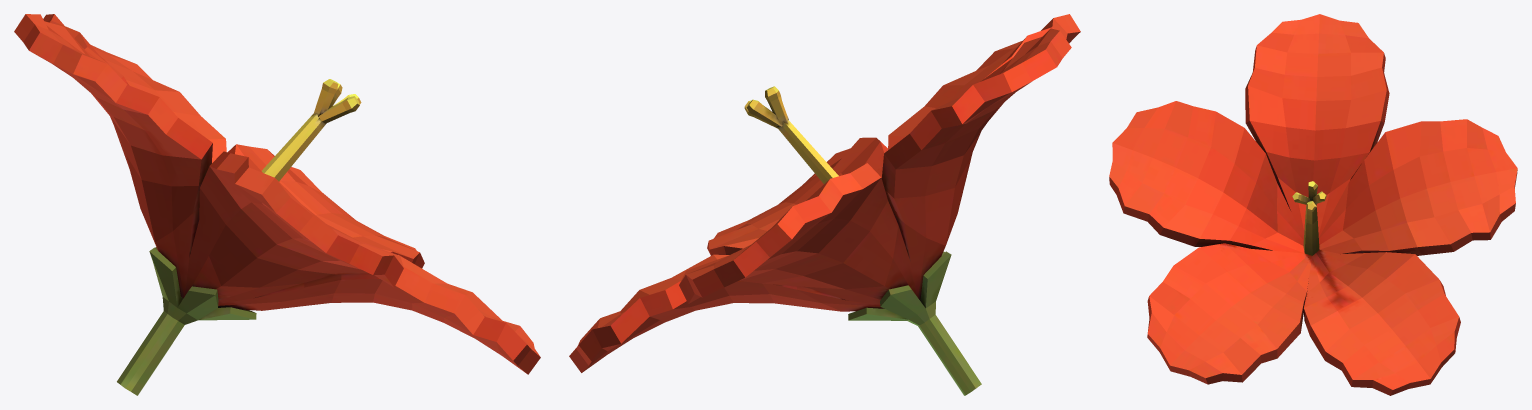
The model's file is vine-flower.glb.
3 views of the same model, side by side, from view 1: azimuth 30°, elevation 25°; view 2: azimuth 150°, elevation 25°; view 3: azimuth 270°, elevation 25° (orthographic). The views are drawn at different scales.
Visible parts, largest first — view 1: hibiscus_flower; view 2: hibiscus_flower; view 3: hibiscus_flower.
Boxes of the visible parts, left/top/right/bottom form: hibiscus_flower: left=14, top=14, right=540, bottom=395; hibiscus_flower: left=569, top=14, right=1080, bottom=395; hibiscus_flower: left=1109, top=14, right=1517, bottom=395.
Size of the model in its own units: 1.39 by 1.17 by 1.71.
1 material, 1 textured.
